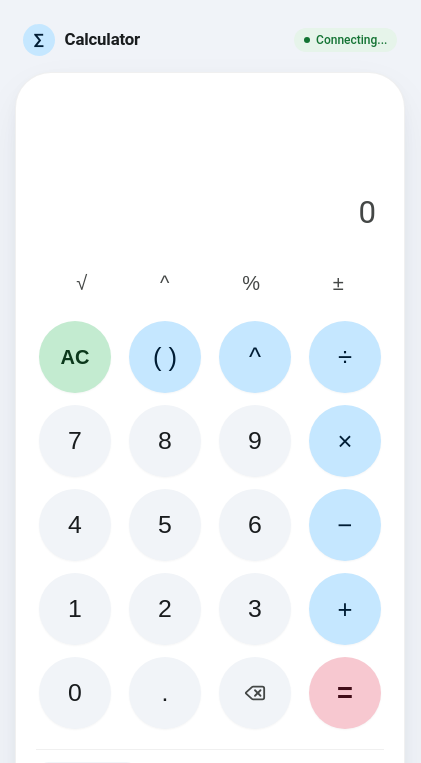
Test case: Calculator App Integration › toggles and displays calculation history
The image size is (421, 763).
Step 1. Click the button with test id "key-5" → (165, 525), box [129, 489, 201, 561]
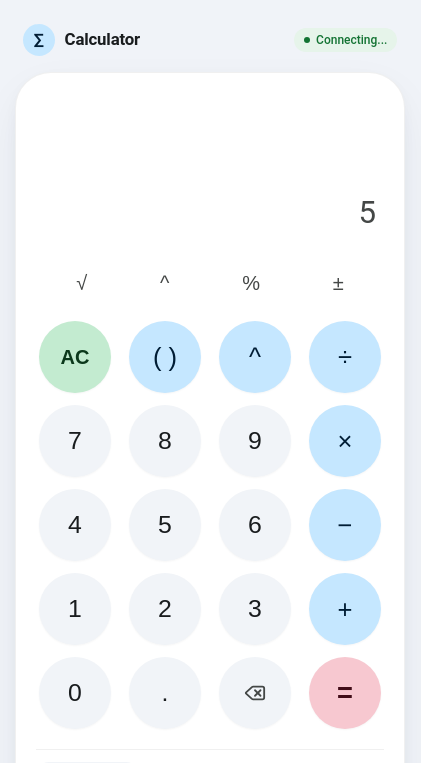
Step 2. Click the button with test id "key-multiply" → (345, 441), box [309, 405, 381, 477]
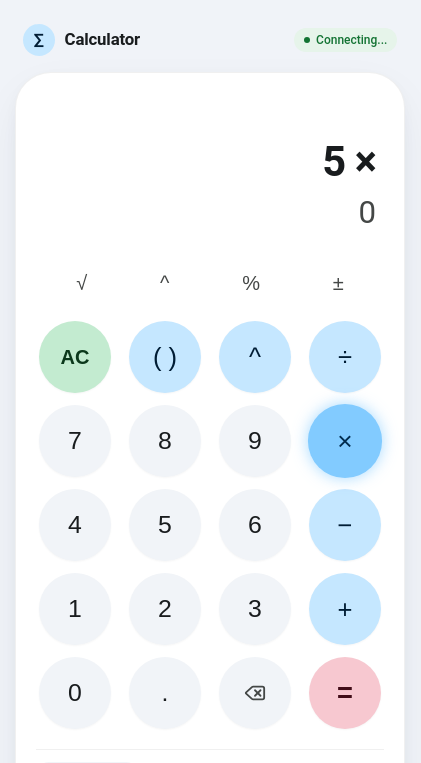
Step 3. Click the button with test id "key-5" → (165, 525), box [129, 489, 201, 561]
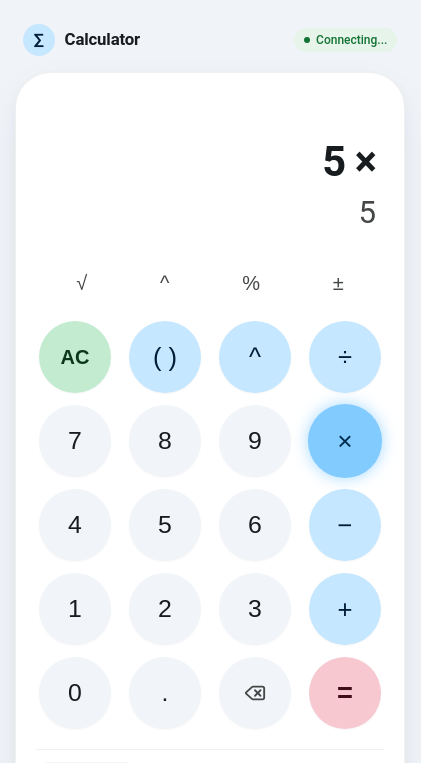
Step 4. Click the button with test id "key-equals" → (345, 693), box [309, 657, 381, 729]
(page scrolled)
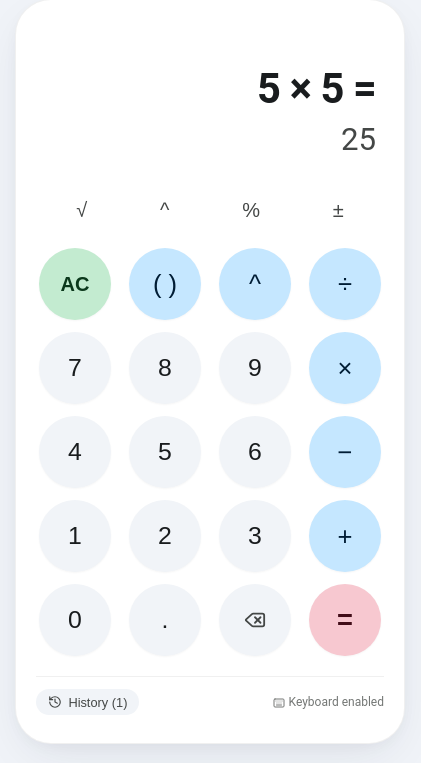
Now the text with test id "display-value" reads "25", box [341, 121, 376, 158]
Note: Toggle history panel
Step 5. Click the button with test id "toggle-history-btn" → (88, 702), box [36, 689, 139, 715]
(page scrolled)
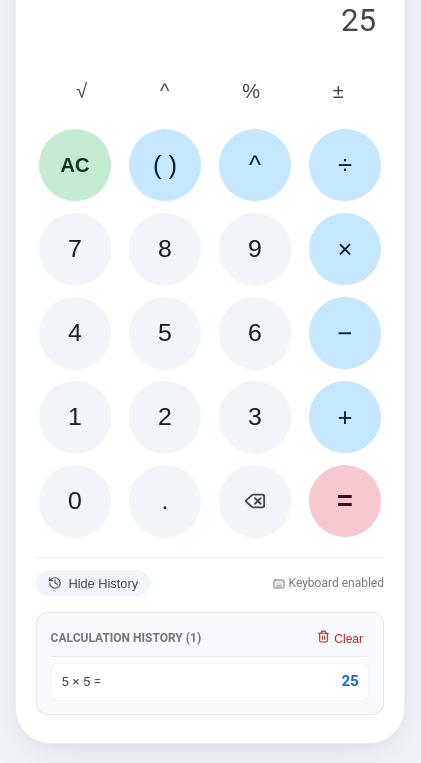
Now the element with test id "history-panel" is shown, box [36, 612, 384, 715]
Now the text "5 × 5 =" is shown, box [61, 672, 101, 691]
Now the text "25" below "CALCULATION HISTORY (" is shown, box [341, 672, 359, 690]
